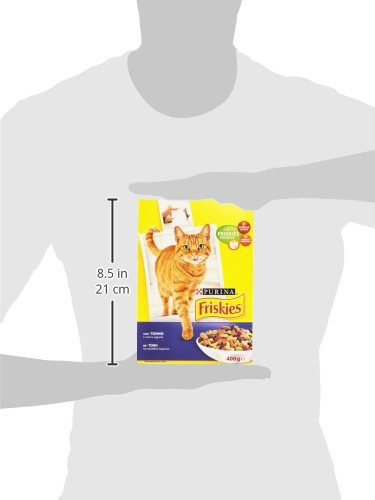21cm: (96, 284, 129, 294)
85in: (97, 269, 127, 278)
